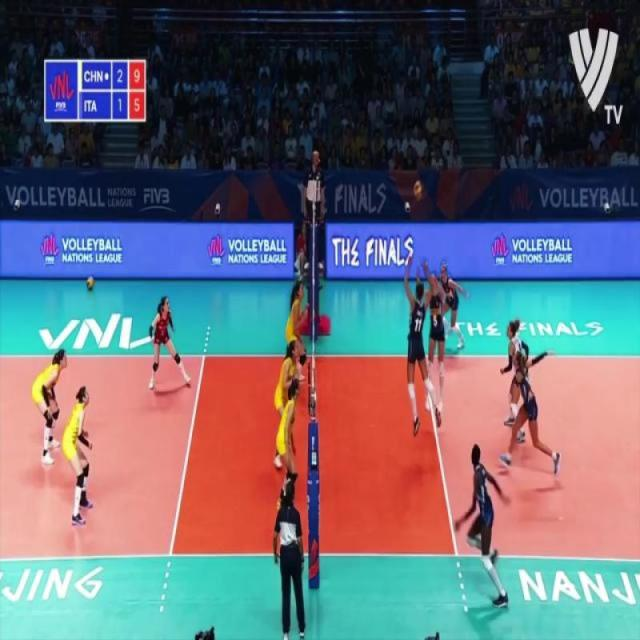volleyball: (413, 181, 424, 200), (86, 276, 95, 292)
